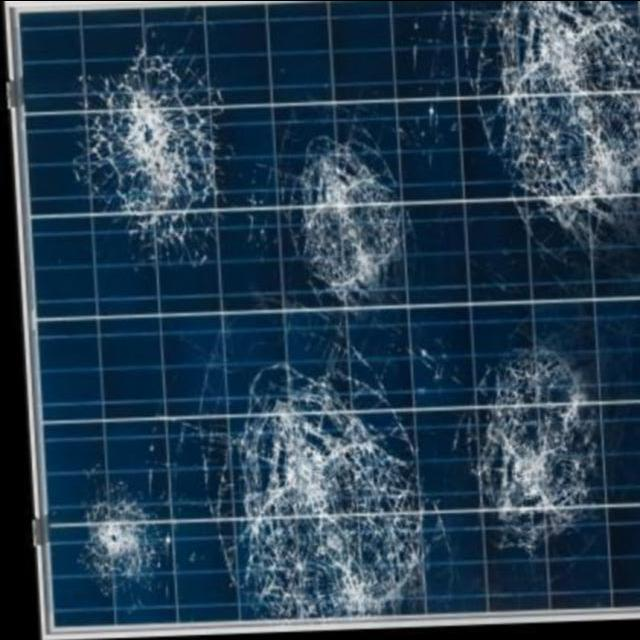cracked: (9, 1, 640, 634)
